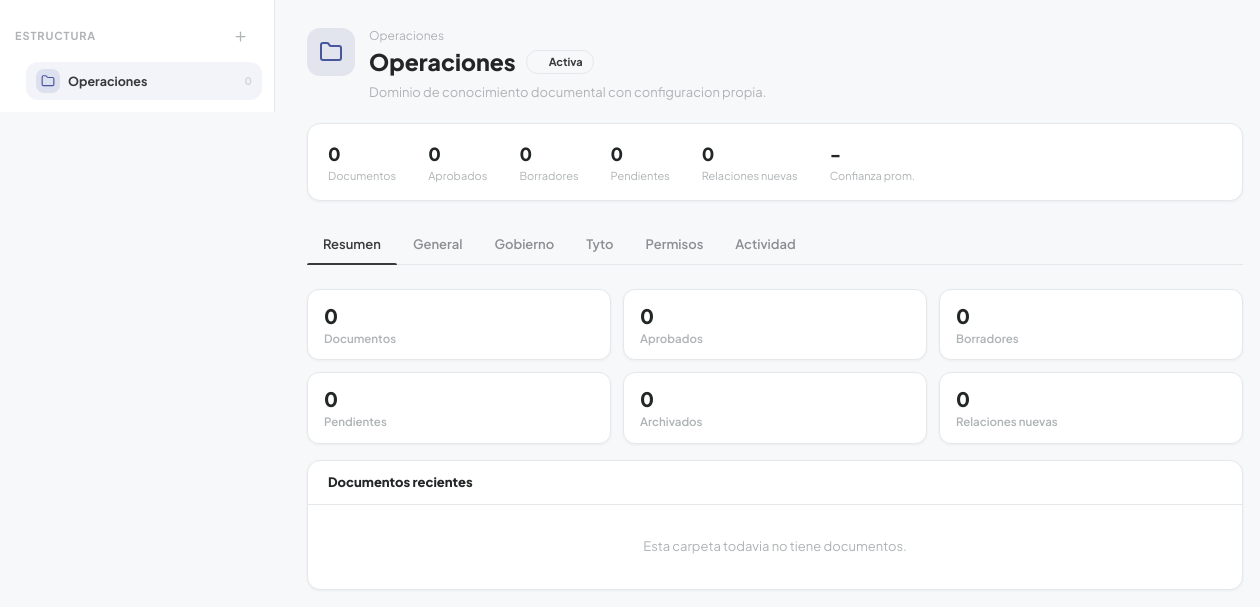
ActivityTab › muestra actor, acción, documento y fecha
Click the tab "Actividad" at (765, 245), box top-left (719, 225), bottom-right (812, 264)
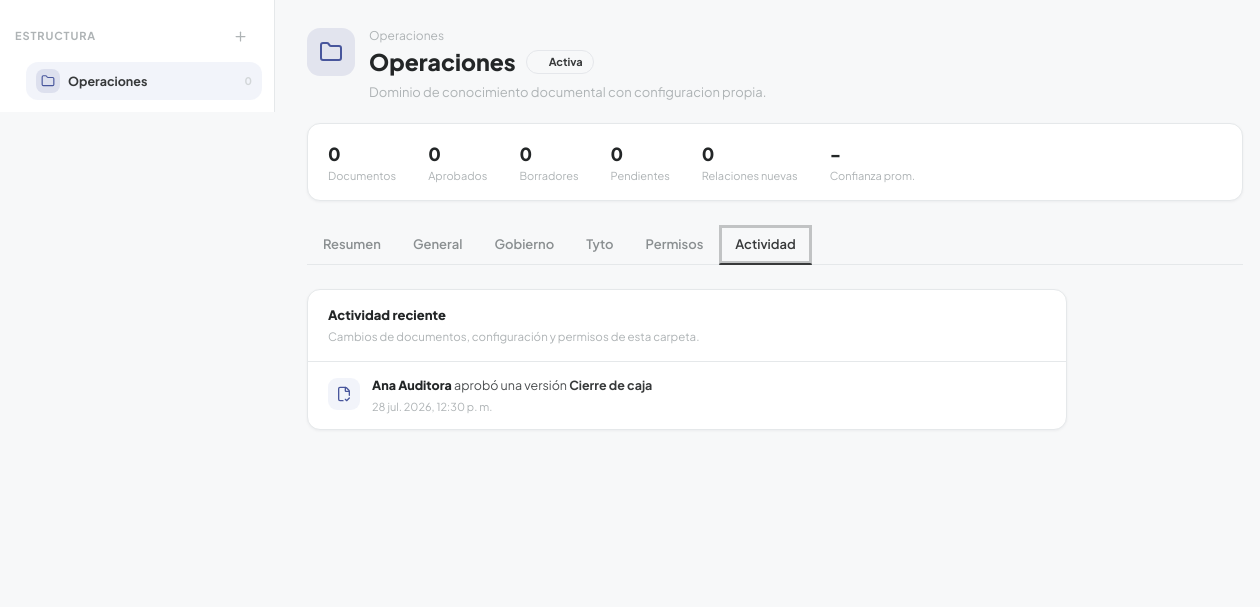
Now the text "Ana Auditora" is shown, box top-left (372, 377), bottom-right (452, 393)
Now the text "aprobó una versión" is shown, box top-left (454, 377), bottom-right (567, 393)
Now the text "Cierre de caja" is shown, box top-left (569, 377), bottom-right (652, 393)
